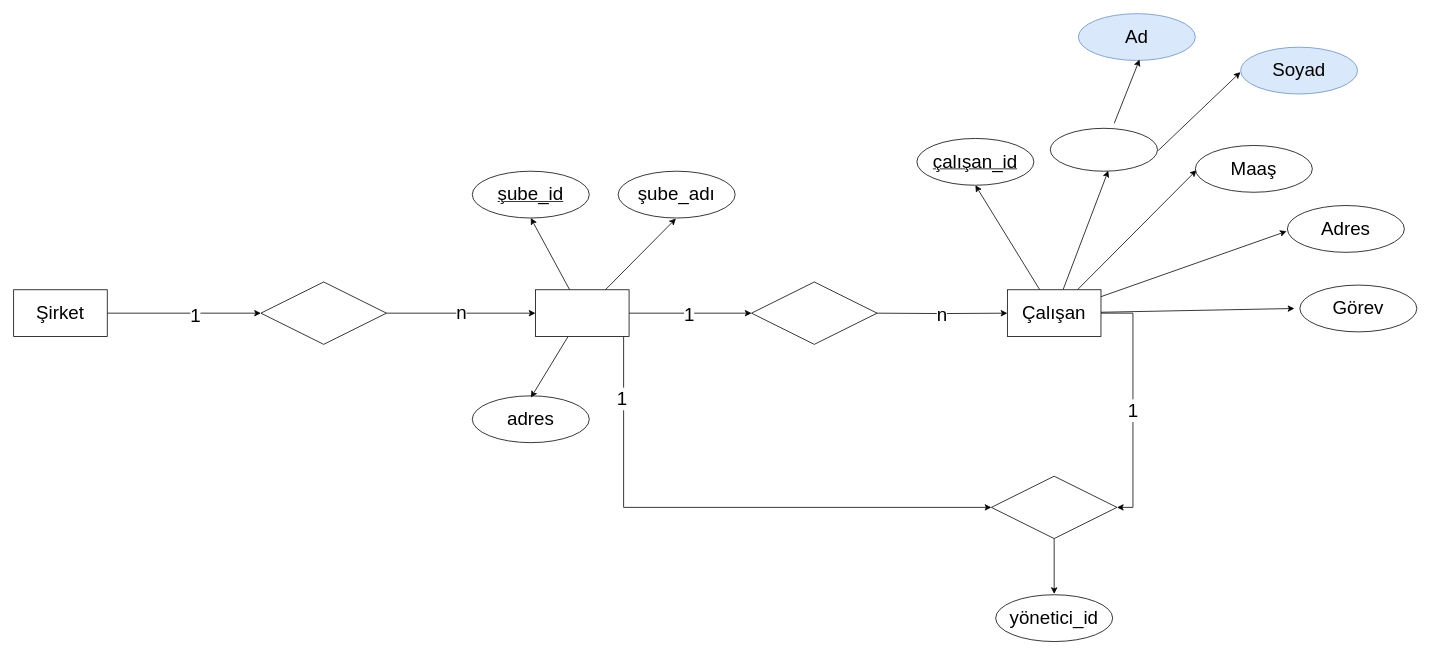
This 1431x655 diagram has some shape labels left out. The centre of each missing label's shape, as x and y in pixels:
"Tam_Ad" belongs at point (1103, 149).
"Yönetir" belongs at point (1054, 507).
"Çalışabilir" belongs at point (323, 312).
"Çalışır" belongs at point (814, 312).
"Şube" belongs at point (582, 313).
